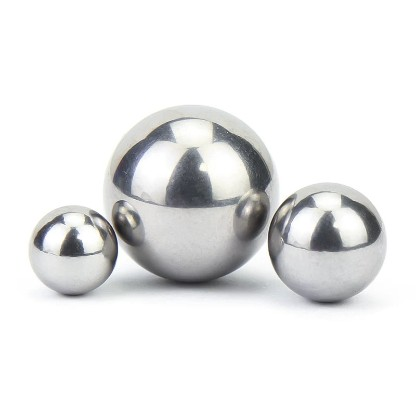ironball: (102, 104, 279, 282), (267, 181, 386, 303), (28, 204, 118, 295)
